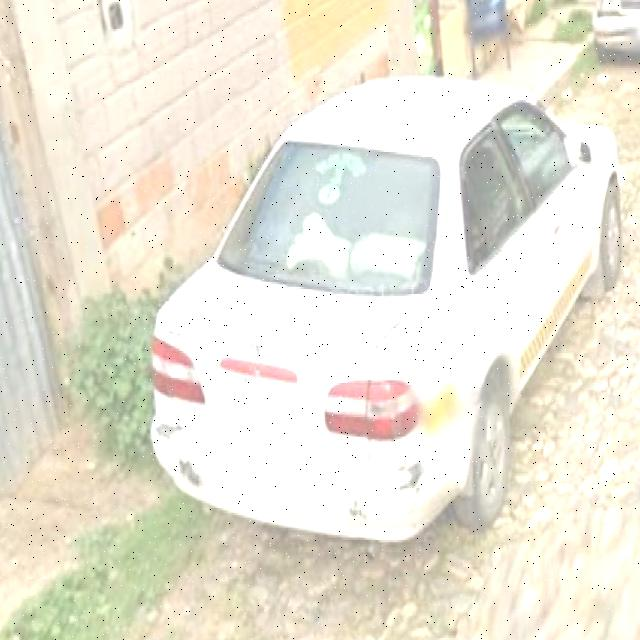car: (157, 78, 618, 549)
